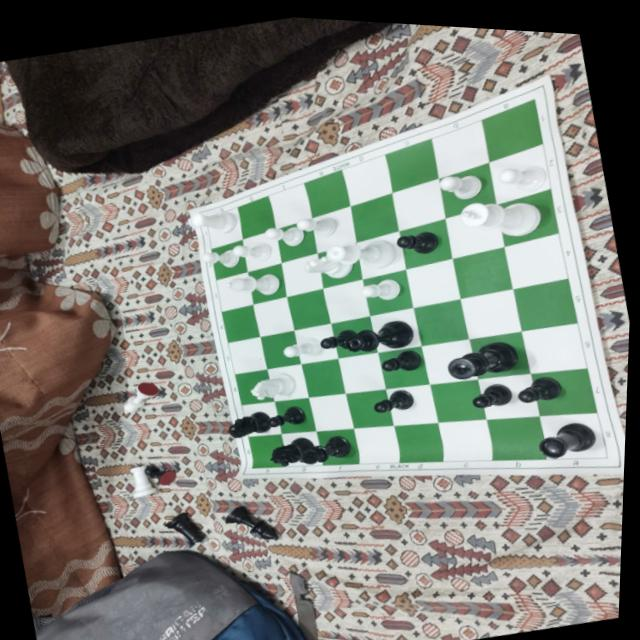board: (191, 75, 624, 476)
square: (481, 98, 542, 160), (488, 142, 550, 203), (496, 187, 559, 245), (504, 232, 568, 288), (513, 277, 577, 330), (521, 321, 587, 372), (431, 119, 489, 177), (530, 366, 596, 415), (439, 161, 496, 217), (445, 203, 504, 257), (453, 245, 513, 297), (539, 411, 606, 457), (460, 288, 521, 338), (469, 330, 530, 378), (385, 137, 439, 191), (392, 177, 446, 230), (478, 372, 540, 418), (399, 217, 452, 268), (405, 257, 460, 306), (341, 153, 392, 205), (413, 298, 469, 345), (421, 337, 477, 383), (487, 415, 545, 459), (356, 229, 406, 278), (430, 378, 486, 421), (350, 192, 399, 241), (362, 268, 413, 314), (370, 306, 420, 351), (378, 344, 429, 388), (438, 418, 491, 460), (304, 168, 350, 216), (385, 383, 438, 424), (312, 204, 356, 252), (317, 241, 362, 287), (268, 181, 312, 228), (323, 278, 370, 322), (330, 315, 377, 357), (338, 351, 386, 392), (346, 387, 394, 427), (394, 421, 442, 461), (286, 287, 330, 329), (281, 252, 323, 295), (294, 322, 338, 363), (276, 217, 317, 261), (353, 424, 399, 462), (237, 194, 276, 238), (301, 357, 345, 396), (308, 392, 353, 430), (253, 295, 294, 335), (260, 329, 301, 368), (243, 228, 281, 270), (248, 261, 286, 303), (267, 363, 309, 400), (316, 427, 358, 463), (221, 303, 260, 341), (216, 270, 253, 310), (206, 206, 242, 247), (275, 396, 316, 432), (281, 430, 323, 465), (228, 335, 266, 373), (211, 238, 247, 278), (235, 368, 274, 404), (242, 400, 281, 435), (248, 433, 286, 467)
